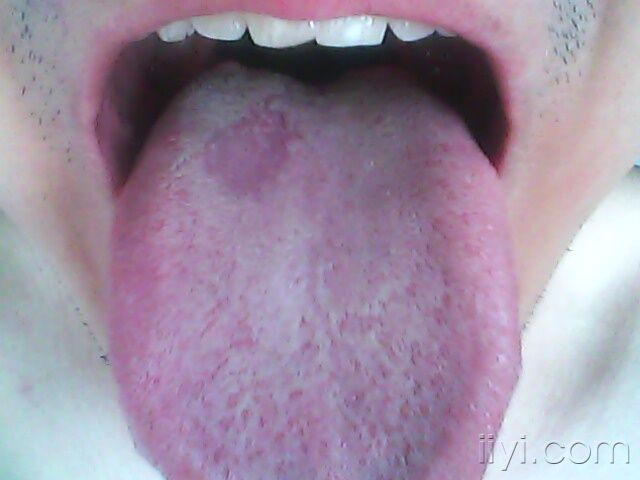baitaishe: (107, 59, 524, 480)
botaishe: (191, 97, 317, 204)
shenquao: (231, 59, 380, 101)
